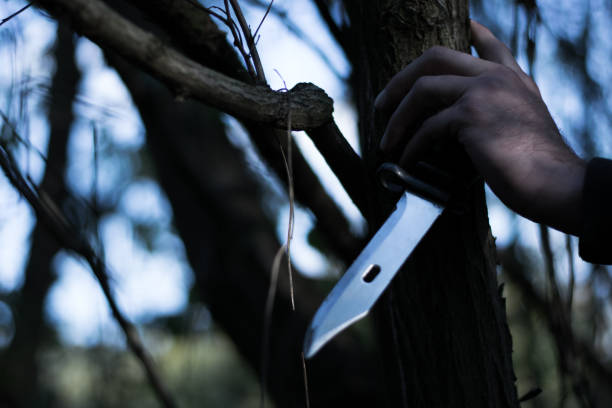knife: (302, 185, 446, 359)
